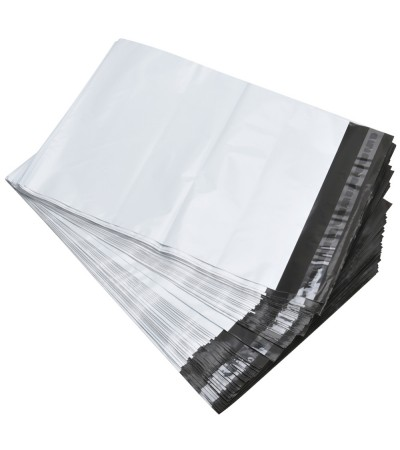Parcel: (7, 41, 394, 413)
